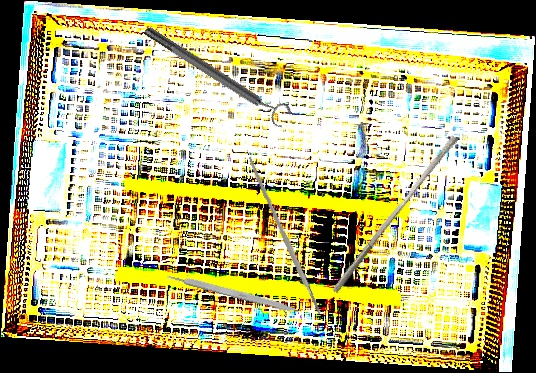Fixation Ring: (139, 17, 295, 132)
Pusher: (331, 130, 459, 299)
Scalpel Handle: (245, 155, 323, 316), (166, 270, 300, 315)
